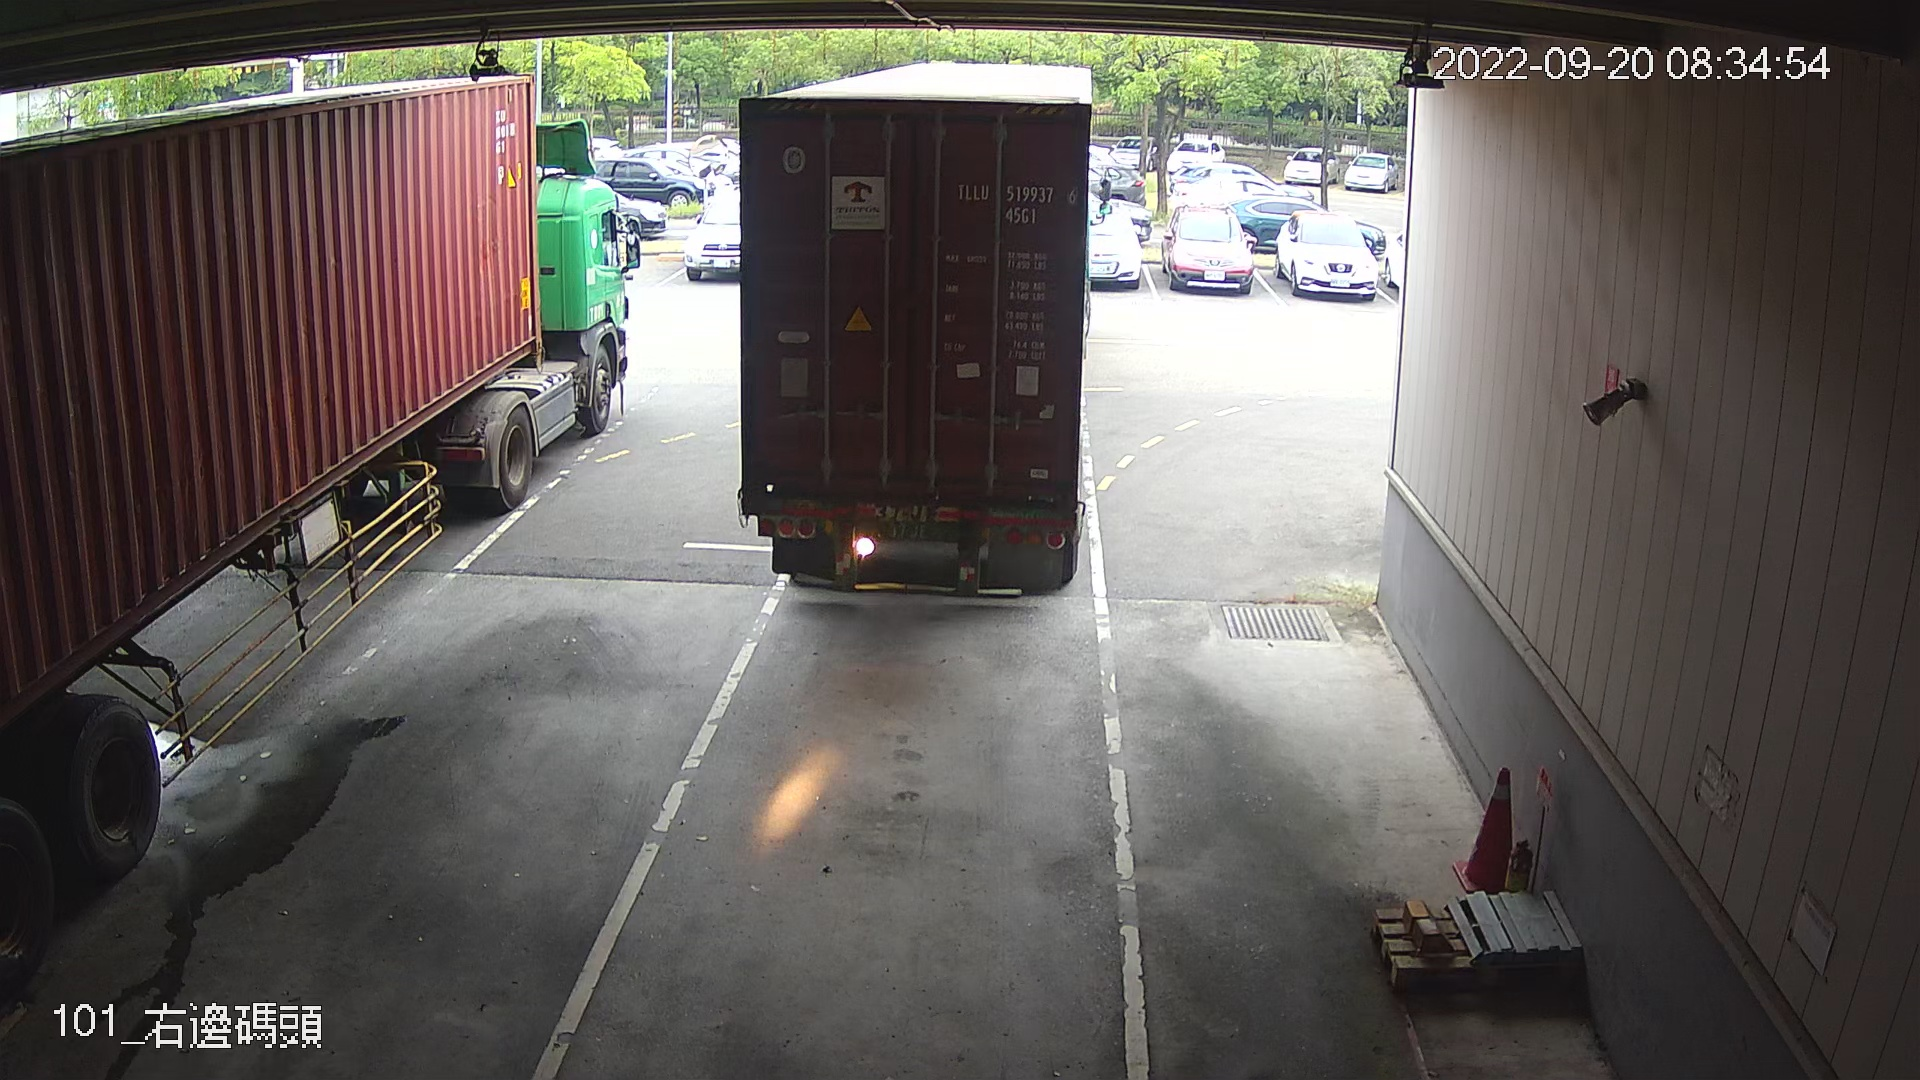container: (949, 175, 1083, 229)
